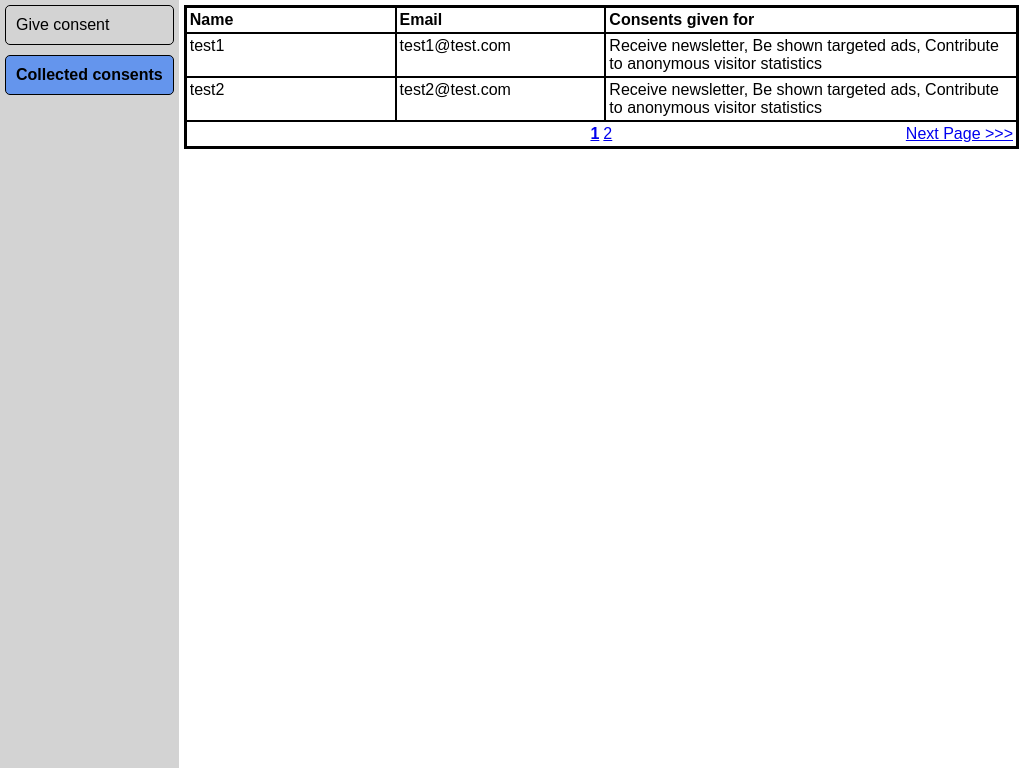
it: renders consents and paging
Check: the text "test1" is shown, box [186, 33, 396, 77]
Check: the text "test2" is shown, box [186, 77, 396, 121]
Click the link "Next Page >>>".
click(959, 134)  # box [906, 125, 1013, 142]
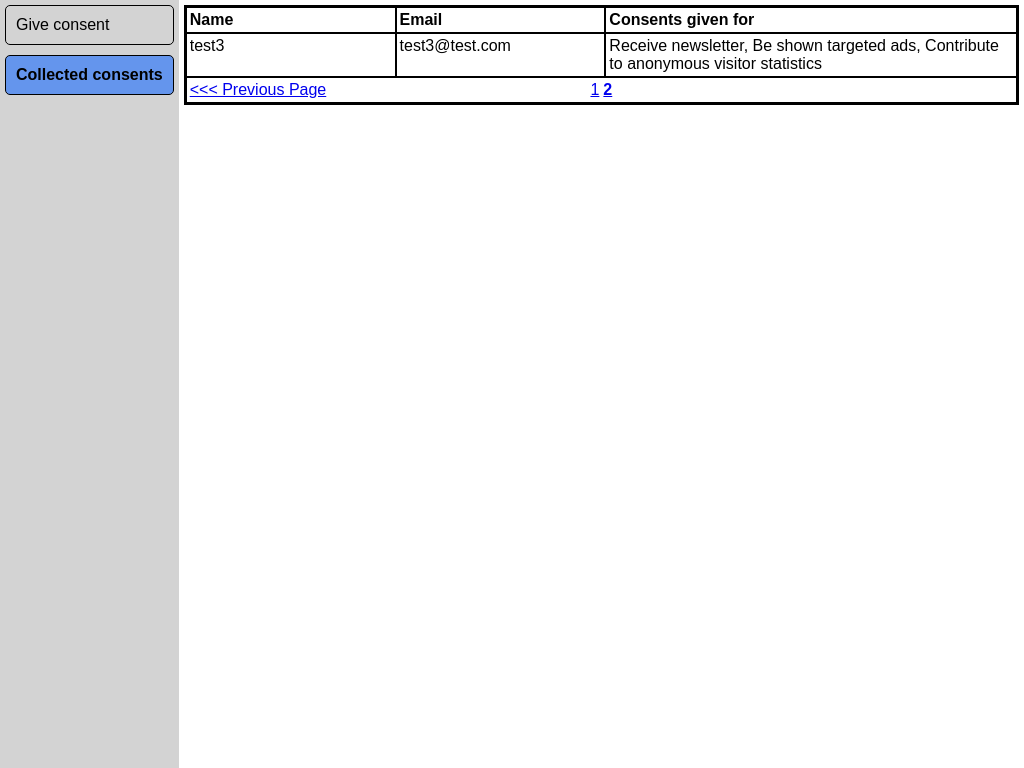
Check: the text "test1" is gone
Check: the text "test2" is gone
Check: the text "test3" is shown, box [186, 33, 396, 77]
